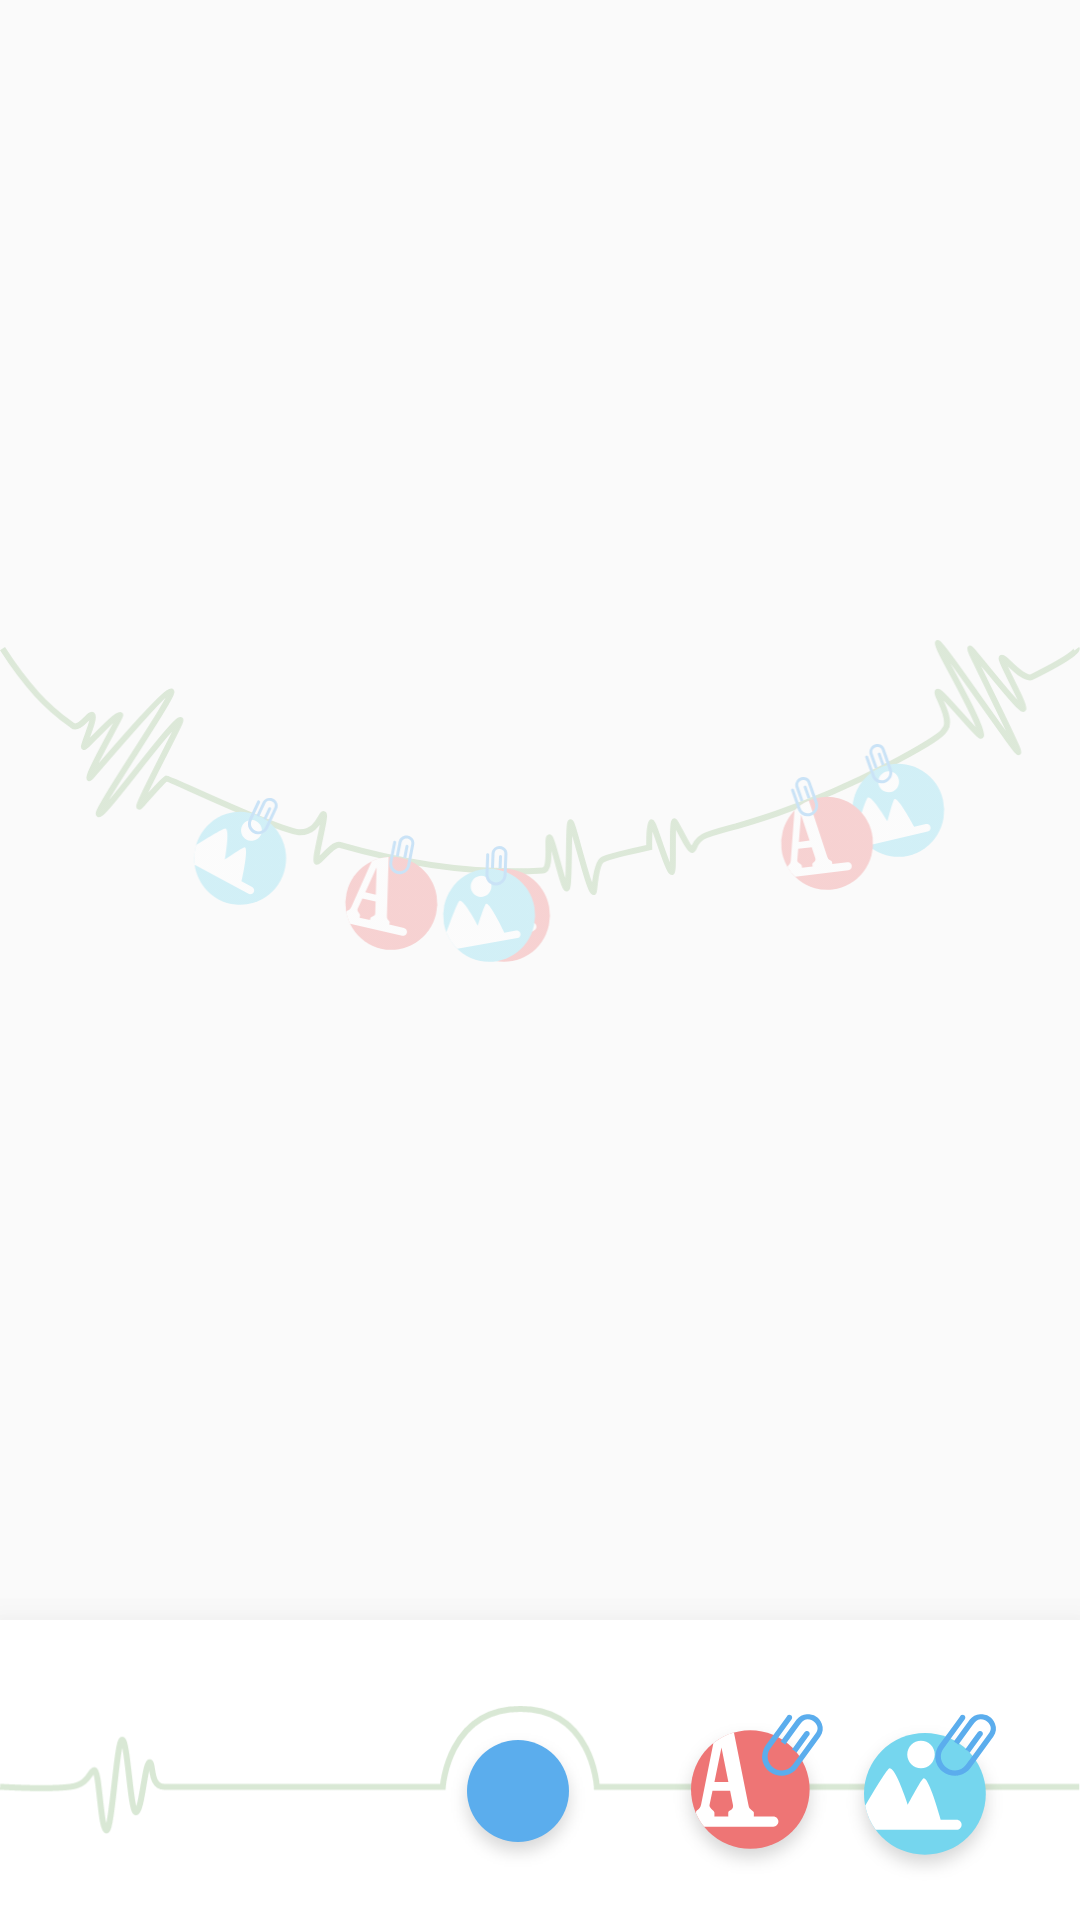

Icon click points for this 1080*1920 phone screenshot, format (x=x, y=y):
attachpic on: (x=925, y=1787)
attachtext on: (x=750, y=1784)
